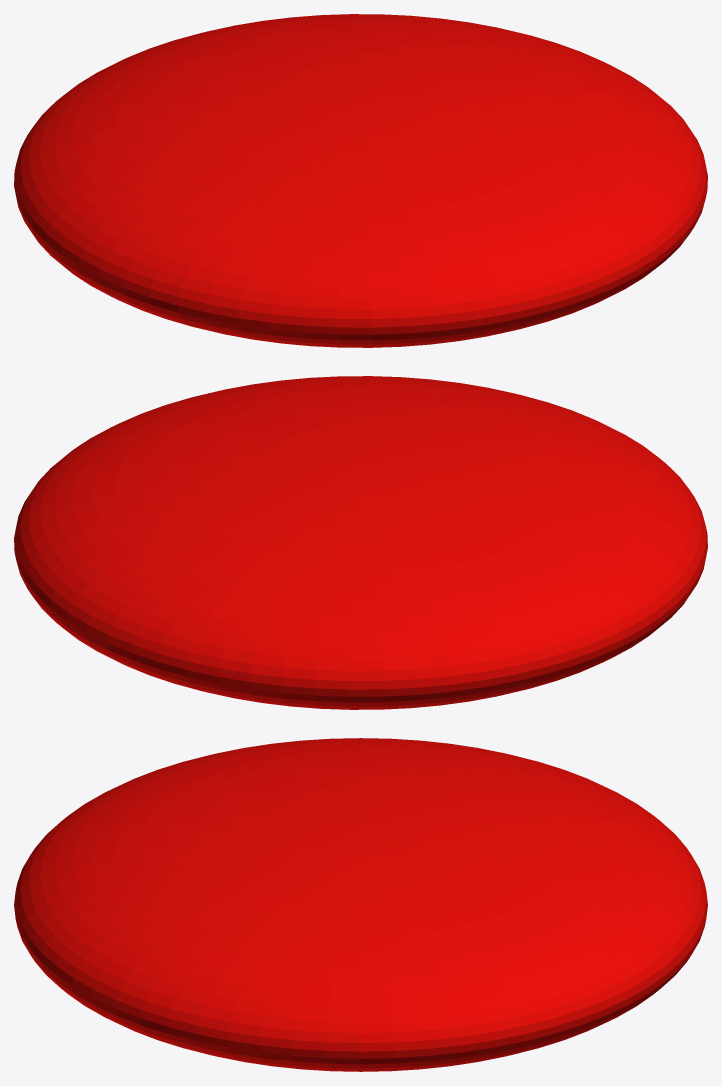
File: MnM.fbx
The picture shows the model from 3 angles, top to bottom: view 1: azimuth 30°, elevation 25°; view 2: azimuth 150°, elevation 25°; view 3: azimuth 270°, elevation 25°; orthographic projection.
Visible parts, largest first — view 1: Sphere; view 2: Sphere; view 3: Sphere.
Part boxes in pixels (x1,y1,x2,y2): Sphere: (14, 14, 707, 347); Sphere: (14, 376, 707, 709); Sphere: (14, 738, 707, 1071).
Bounding box in the file's own units: 1.18 × 0.3011 × 1.18.
